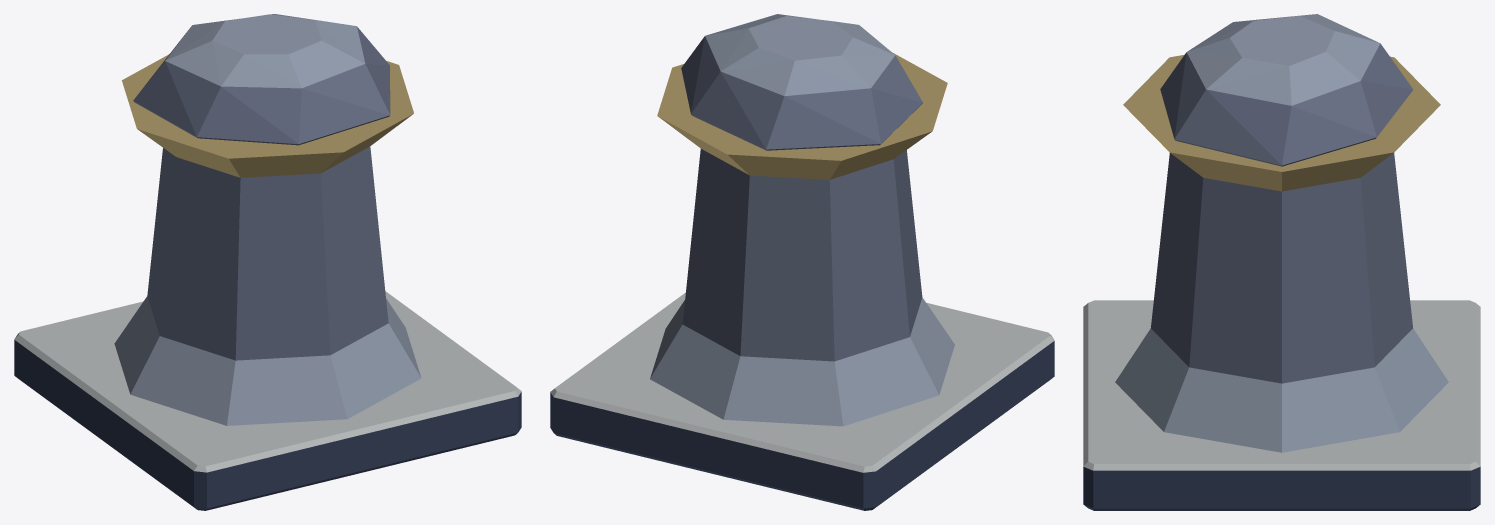
File: pillar-broken.glb
3 renders of one model, left to right at view 1: azimuth 30°, elevation 25°; view 2: azimuth 150°, elevation 25°; view 3: azimuth 270°, elevation 25°, orthographic. The views are drawn at different scales.
Visible parts, largest first — view 1: pillar-broken__body; view 2: pillar-broken__body; view 3: pillar-broken__body.
Boxes of the visible parts, x1,y1,x2,y2 form: pillar-broken__body: [14, 14, 521, 510]; pillar-broken__body: [550, 14, 1054, 510]; pillar-broken__body: [1083, 14, 1480, 510].
Size of the model in its own units: 1 by 1.08 by 1.
